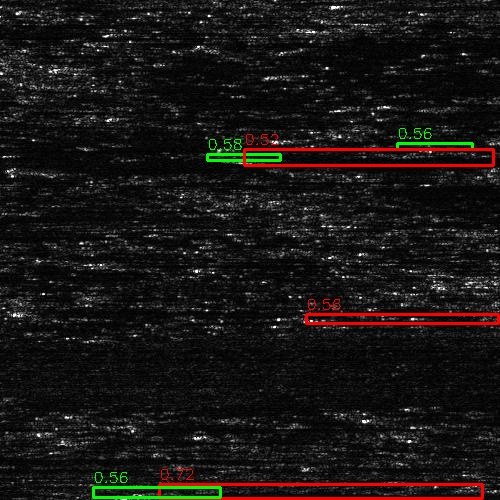rock: (18, 255, 205, 270), (22, 61, 147, 74), (5, 163, 88, 172), (0, 308, 76, 315), (134, 491, 207, 498), (318, 0, 371, 9), (209, 153, 262, 162), (264, 70, 327, 77), (461, 135, 500, 144), (296, 464, 327, 469), (436, 145, 447, 150)
shadow: (85, 61, 500, 74), (112, 255, 348, 270), (236, 153, 486, 162), (171, 491, 478, 498), (0, 156, 161, 167), (0, 454, 147, 465), (296, 70, 500, 77), (47, 163, 205, 172), (345, 0, 500, 9), (0, 466, 199, 471), (30, 308, 108, 315), (312, 464, 392, 469), (442, 145, 500, 150)
